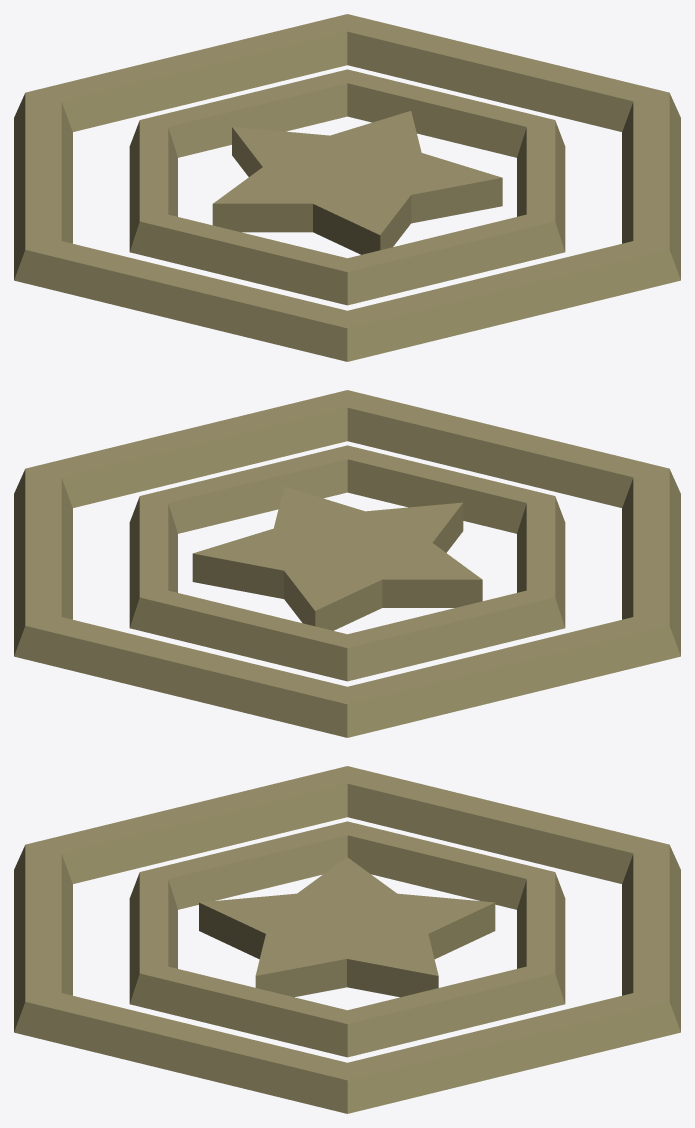
Rendered from 3DIcon_Etoile_StartPosition.FBX.
3 views of the same model, one above another, from view 1: azimuth 30°, elevation 25°; view 2: azimuth 150°, elevation 25°; view 3: azimuth 270°, elevation 25° (orthographic).
Visible parts, largest first — view 1: 3DIcon_Etoile_StartPosition; view 2: 3DIcon_Etoile_StartPosition; view 3: 3DIcon_Etoile_StartPosition.
Part boxes in pixels (x1,y1,x2,y2): 3DIcon_Etoile_StartPosition: (14,14,680,361); 3DIcon_Etoile_StartPosition: (14,390,680,737); 3DIcon_Etoile_StartPosition: (14,766,680,1113).
Size of the model in its own units: 1.53 by 0.0625 by 1.33.
